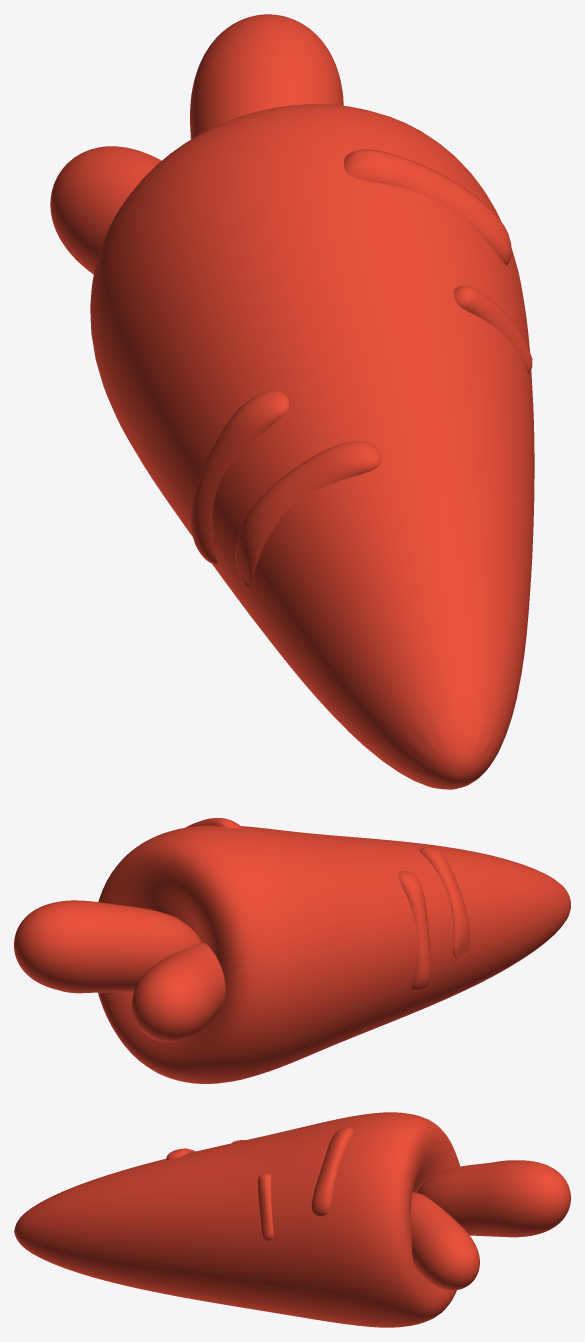
Rendered from calotte1.fbx.
3 views of the same model, one above another, from view 1: azimuth 30°, elevation 25°; view 2: azimuth 150°, elevation 25°; view 3: azimuth 270°, elevation 25° (orthographic). The views are drawn at different scales.
Visible parts, largest first — view 1: 球, 球.001, 球.003, 立方体.003, 立方体, 立方体.002, 立方体.001; view 2: 球, 球.001, 球.003, 立方体.002, 立方体.003, 立方体; view 3: 球, 球.001, 球.002, 立方体, 立方体.001.
Part boxes in pixels (box(x1,y1,x2,y2)): 球: box(90, 104, 534, 789); 球.001: box(190, 14, 343, 139); 球.003: box(50, 146, 161, 274); 立方体.003: box(235, 441, 381, 590); 立方体: box(344, 149, 511, 265); 立方体.002: box(190, 390, 288, 564); 立方体.001: box(453, 285, 532, 373); 球: box(98, 825, 570, 1083); 球.001: box(14, 900, 201, 992); 球.003: box(131, 943, 225, 1042); 立方体.002: box(398, 871, 431, 991); 立方体.003: box(419, 847, 469, 960); 立方体: box(185, 818, 241, 828); 球: box(14, 1112, 460, 1327); 球.001: box(417, 1160, 570, 1237); 球.002: box(411, 1192, 479, 1290); 立方体: box(311, 1127, 353, 1216); 立方体.001: box(258, 1173, 273, 1240).
Bounding box in the file's own units: 53.68 × 42.49 × 109.
